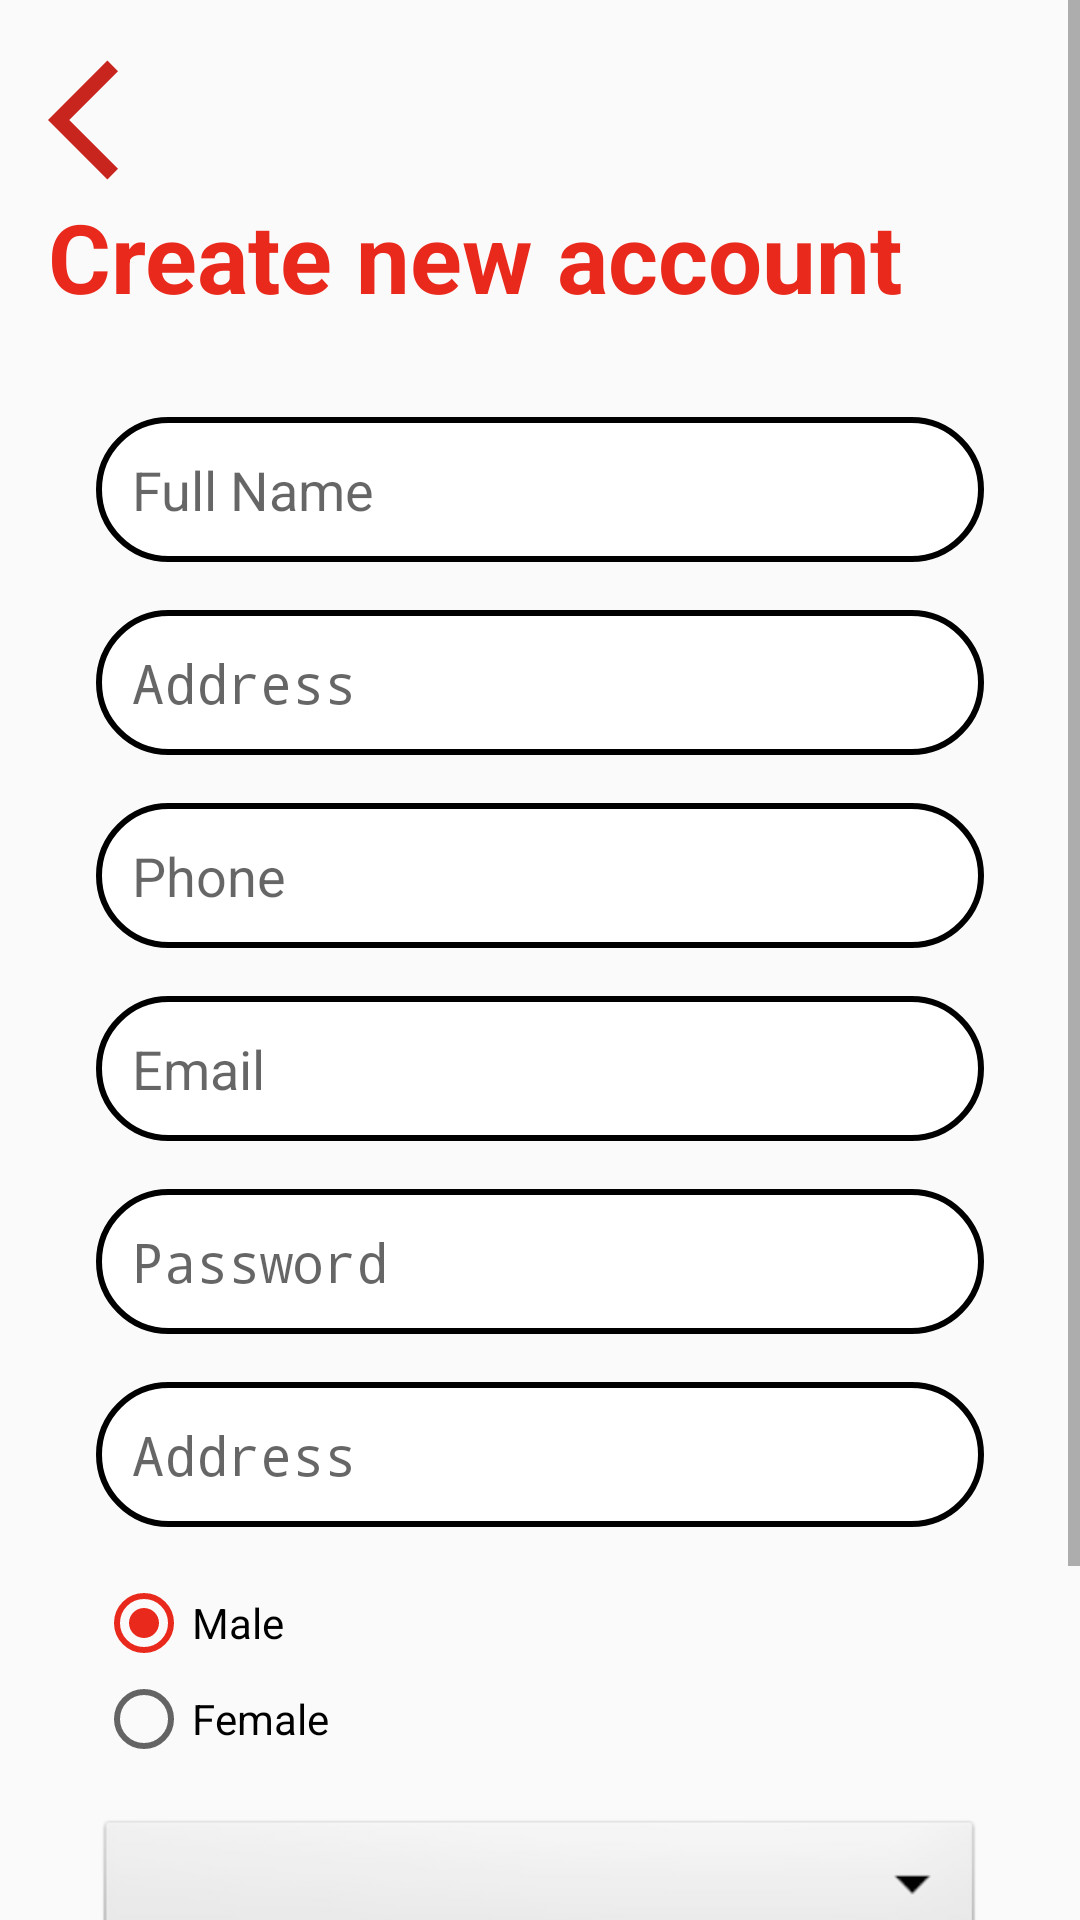

Named icons in this screenshot (1080x1920) and their bounding boxes, (x1, y1, x2, y2):
arrow back: (48, 60, 118, 180)
